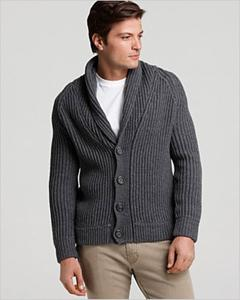S_cardigan sweater: (40, 52, 216, 261)
